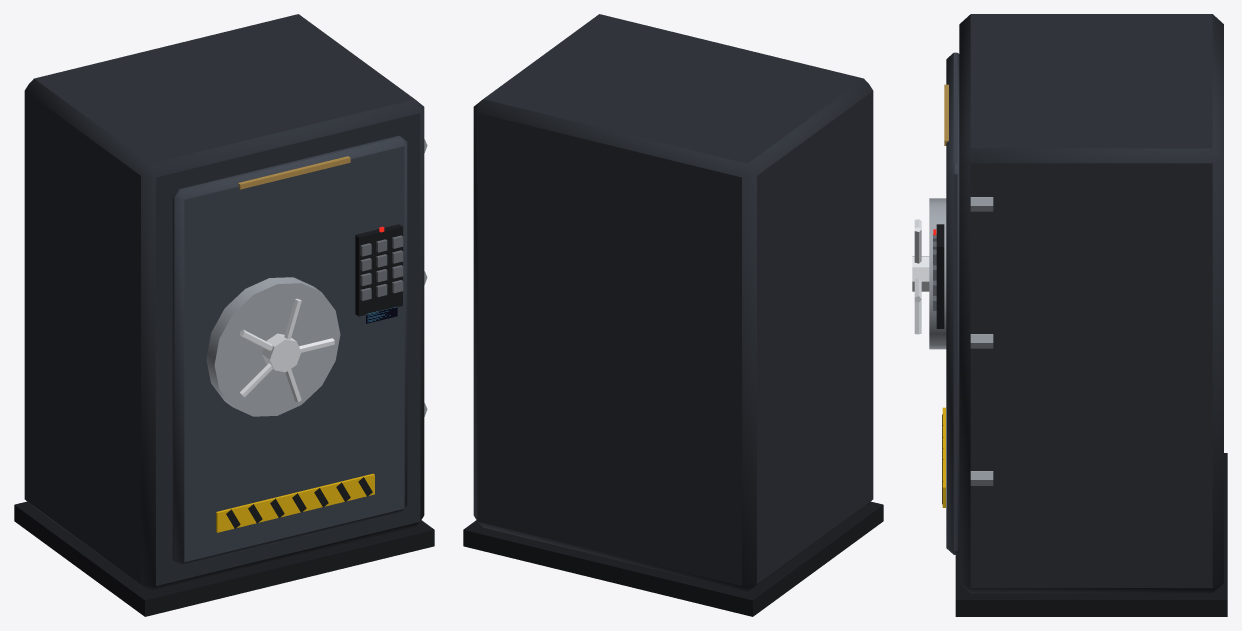
File: storage_secure_data_safe.glb
3 views of the same model, side by side, from view 1: azimuth 30°, elevation 25°; view 2: azimuth 150°, elevation 25°; view 3: azimuth 270°, elevation 25° (orthographic). The views are drawn at different scales.
Parts seen in each view (by area): view 1: storage_secure_data_safe; view 2: storage_secure_data_safe; view 3: storage_secure_data_safe.
Part boxes in pixels (left/top/right/bottom): storage_secure_data_safe: left=14, top=14, right=434, bottom=616; storage_secure_data_safe: left=463, top=14, right=883, bottom=616; storage_secure_data_safe: left=912, top=14, right=1227, bottom=616.
Bounding box in the file's own units: 0.92 × 1.35 × 0.835.
Materials: 10 (1 with a texture image).
